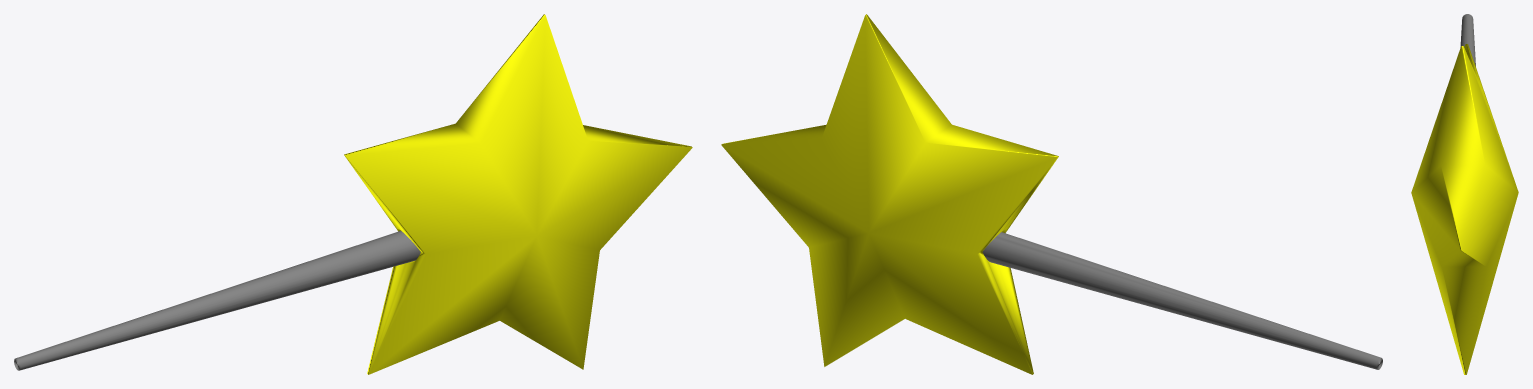
The model's file is Varita.obj.
3 views of the same model, side by side, from view 1: azimuth 30°, elevation 25°; view 2: azimuth 150°, elevation 25°; view 3: azimuth 270°, elevation 25° (orthographic). The views are drawn at different scales.
Visible parts, largest first — view 1: mmGroup001, mmGroup0; view 2: mmGroup001, mmGroup0; view 3: mmGroup001, mmGroup0.
Boxes of the visible parts, x1,y1,x2,y2 form: mmGroup001: [344, 14, 692, 374]; mmGroup0: [14, 231, 420, 370]; mmGroup001: [721, 14, 1058, 374]; mmGroup0: [982, 232, 1382, 369]; mmGroup001: [1411, 44, 1518, 374]; mmGroup0: [1460, 14, 1475, 66].
Bounding box in the file's own units: 19.29 × 10.04 × 3.13.
